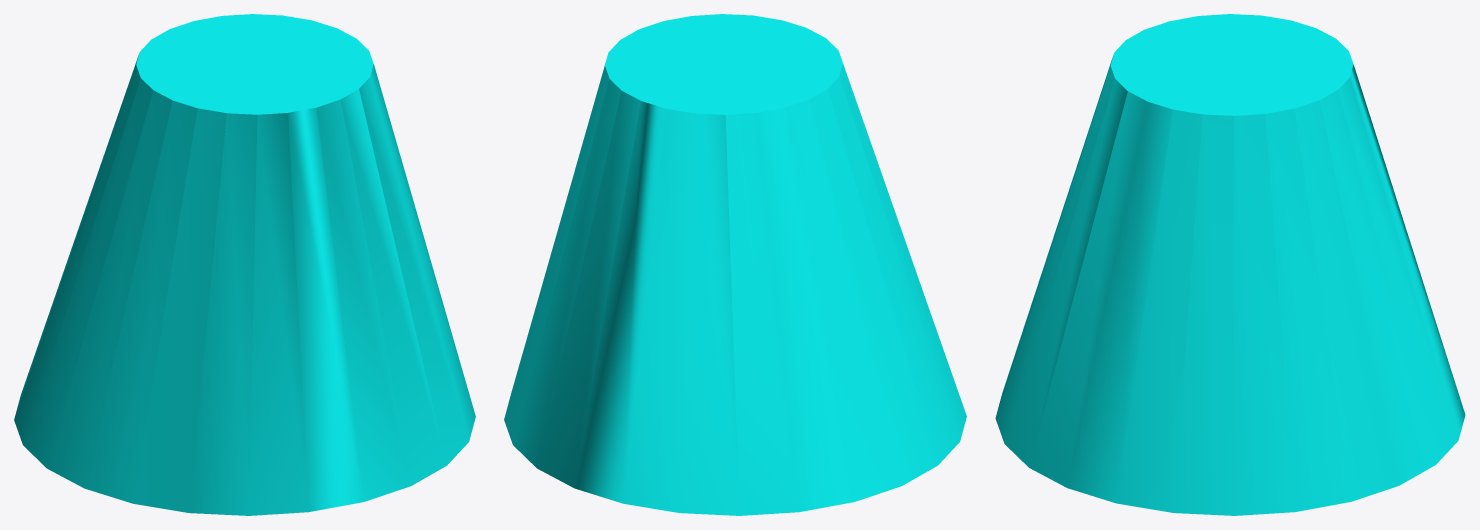
File: figura11.fbx
The picture shows the model from 3 angles, left to right: view 1: azimuth 30°, elevation 25°; view 2: azimuth 150°, elevation 25°; view 3: azimuth 270°, elevation 25°; orthographic projection.
Parts seen in each view (by area): view 1: Difference2; view 2: Difference2; view 3: Difference2.
Part boxes in pixels (<box>): Difference2: <box>14,14,475,515</box>; Difference2: <box>504,14,966,515</box>; Difference2: <box>995,14,1465,515</box>.
Size of the model in its own units: 7999 by 6704 by 7999.
